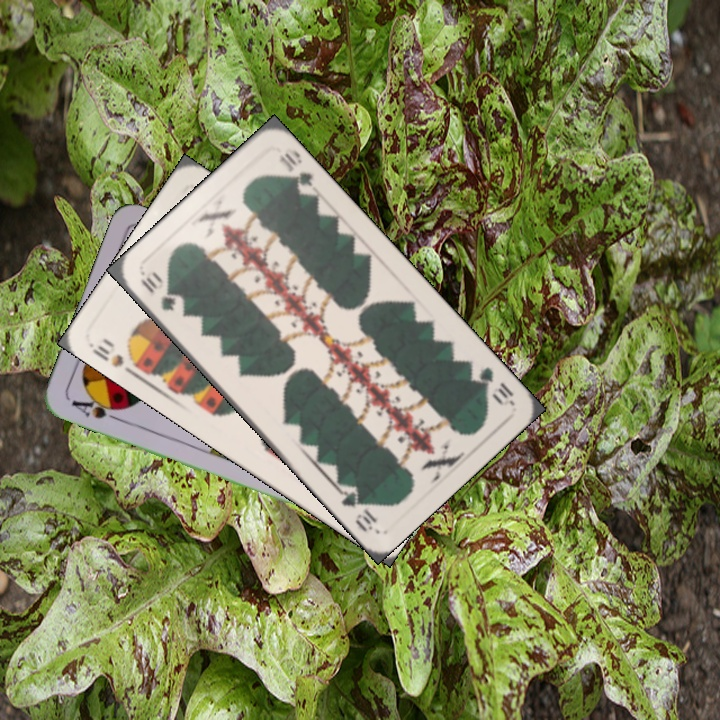G10: (466, 361, 517, 409), (136, 269, 179, 314)
S10: (86, 339, 142, 378)
SA: (67, 392, 127, 424)
